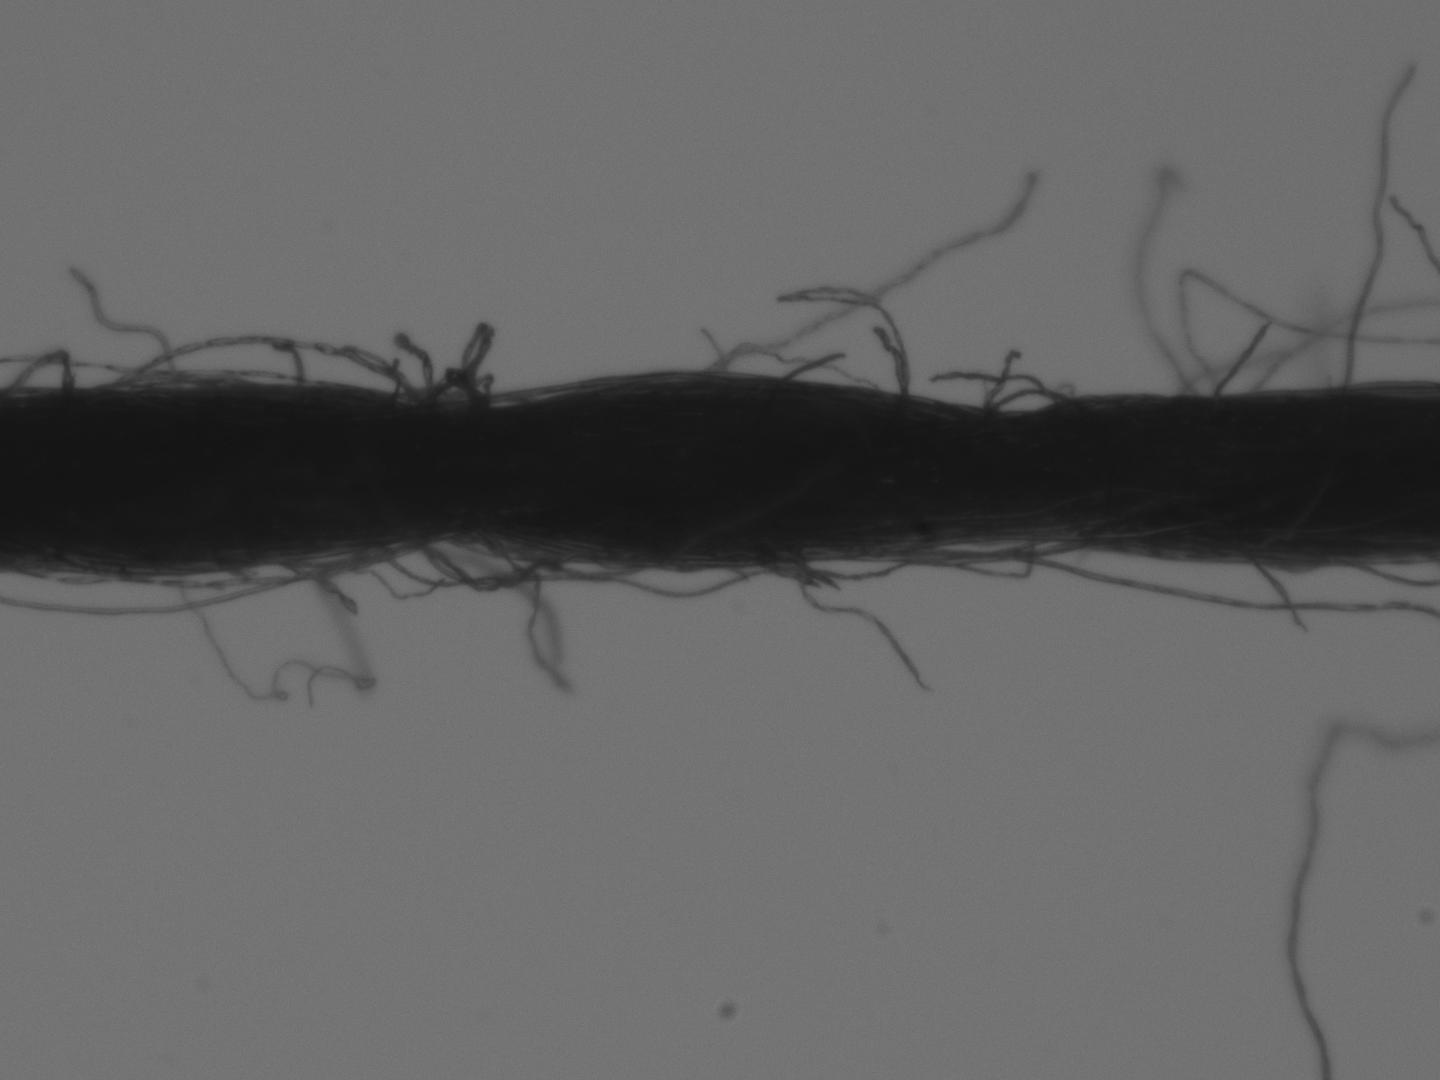loop_fiber: (118, 336, 418, 404), (115, 540, 374, 589), (371, 530, 542, 585), (415, 531, 557, 593), (863, 535, 1085, 566), (764, 538, 920, 581), (5, 349, 77, 395), (983, 385, 1076, 420), (415, 369, 488, 408)
protruding_fiber: (1340, 58, 1416, 382), (797, 569, 940, 695), (70, 255, 184, 387), (1243, 555, 1314, 634), (1210, 323, 1268, 396), (980, 346, 1023, 414), (774, 349, 847, 385)
